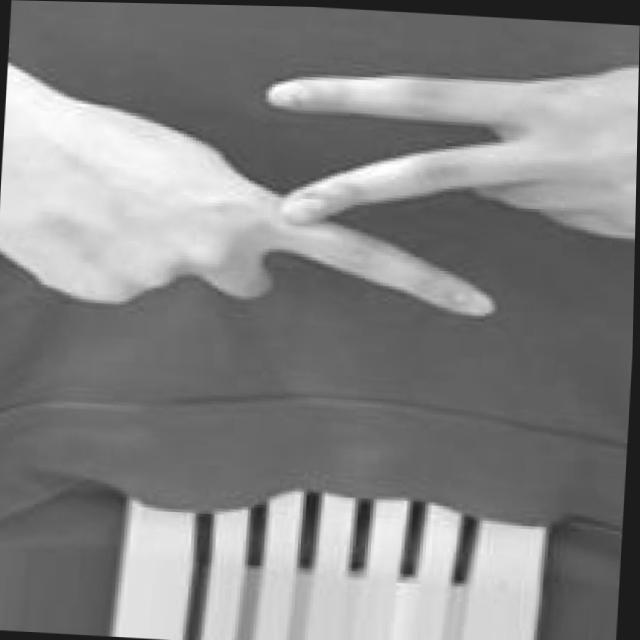Z: (0, 25, 639, 339)
